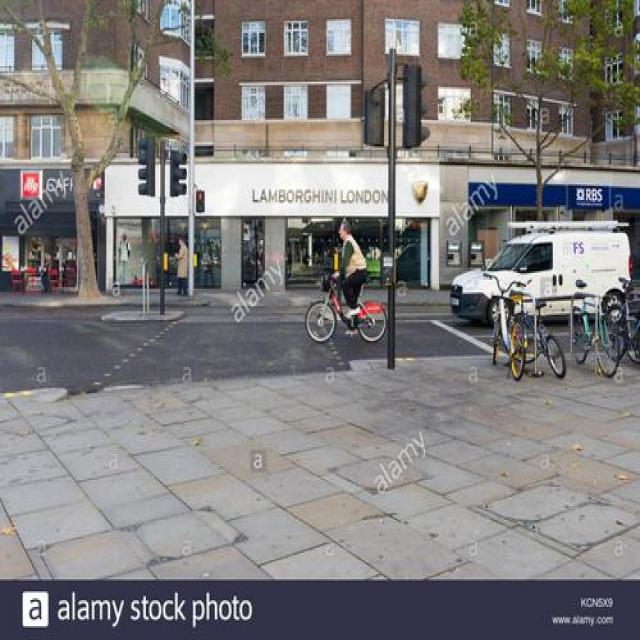bikerider: (294, 212, 404, 360)
